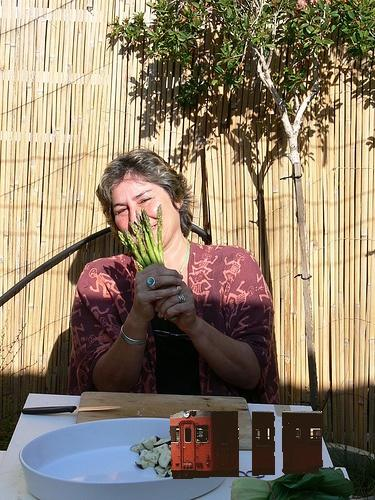tampered: (171, 411, 323, 479)
